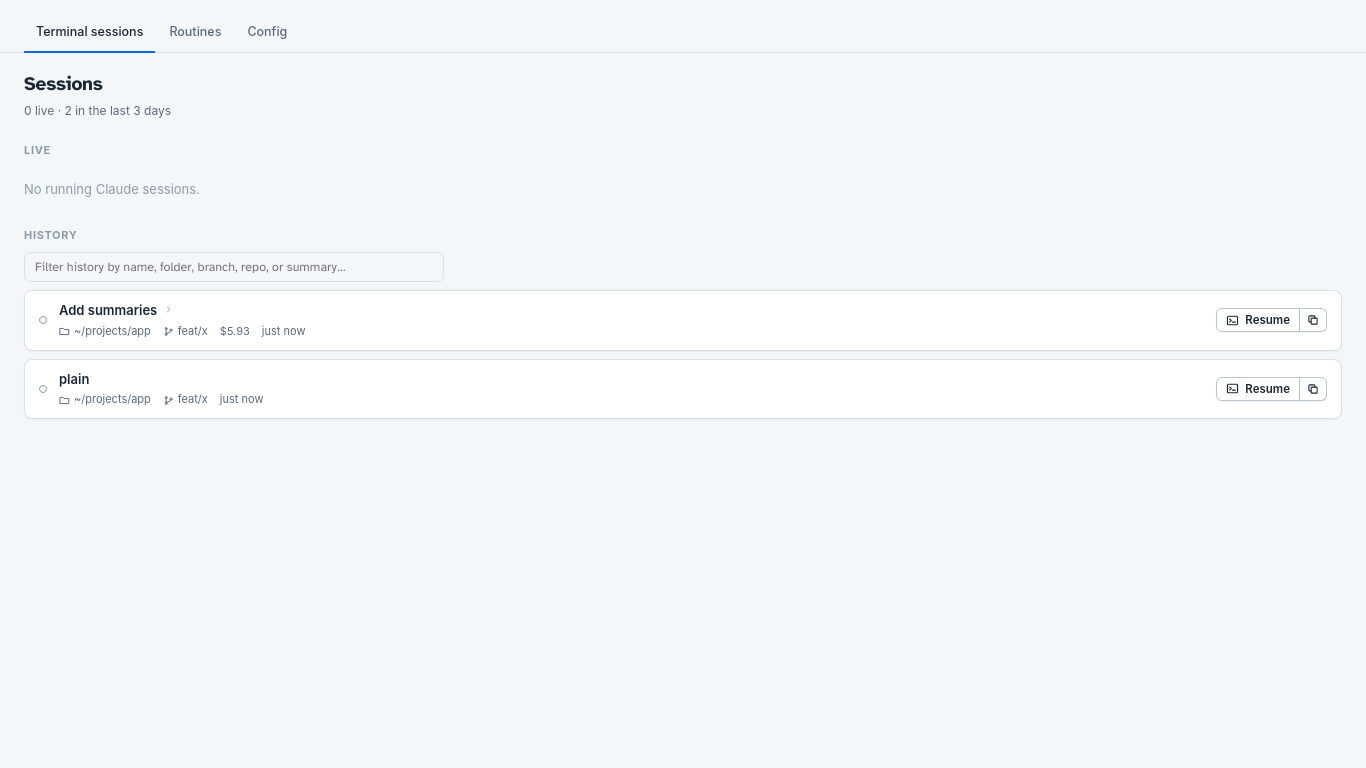
Scenario: SessionsView › expands a history session's summaries; the original name is a tooltip
Expected: the text "Second run" is not shown
Step 1. Click the button named "show summary" → (117, 310), box x1=59 y1=301 x2=175 y2=320
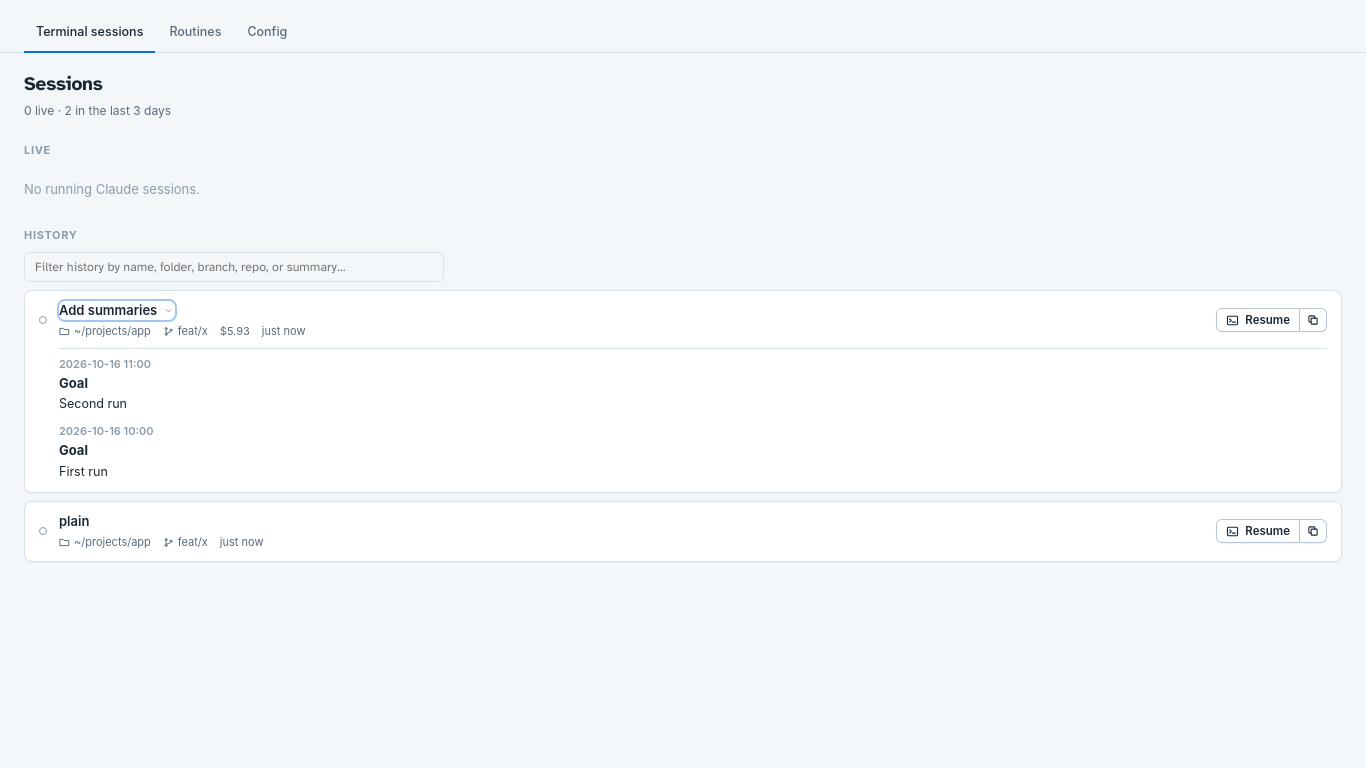
Result: the text "Second run" is shown at x1=59 y1=396 x2=127 y2=411
Result: the text "First run" is shown at x1=59 y1=464 x2=108 y2=479
Result: the text "2026-10-16 11:00" is shown at x1=59 y1=357 x2=151 y2=371
